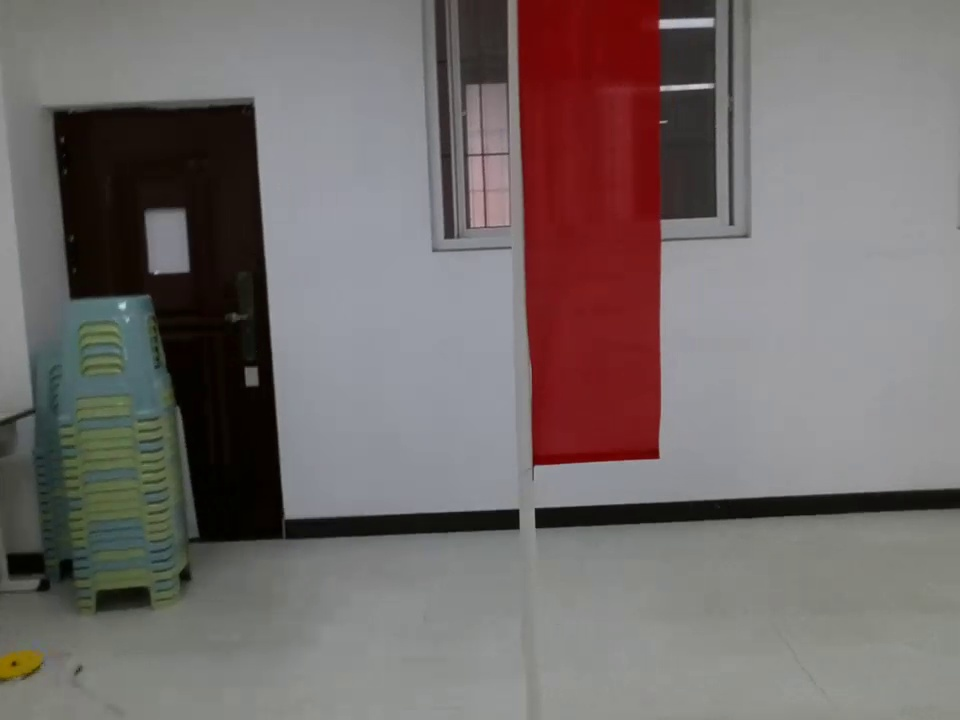qi: (515, 1, 660, 481)
